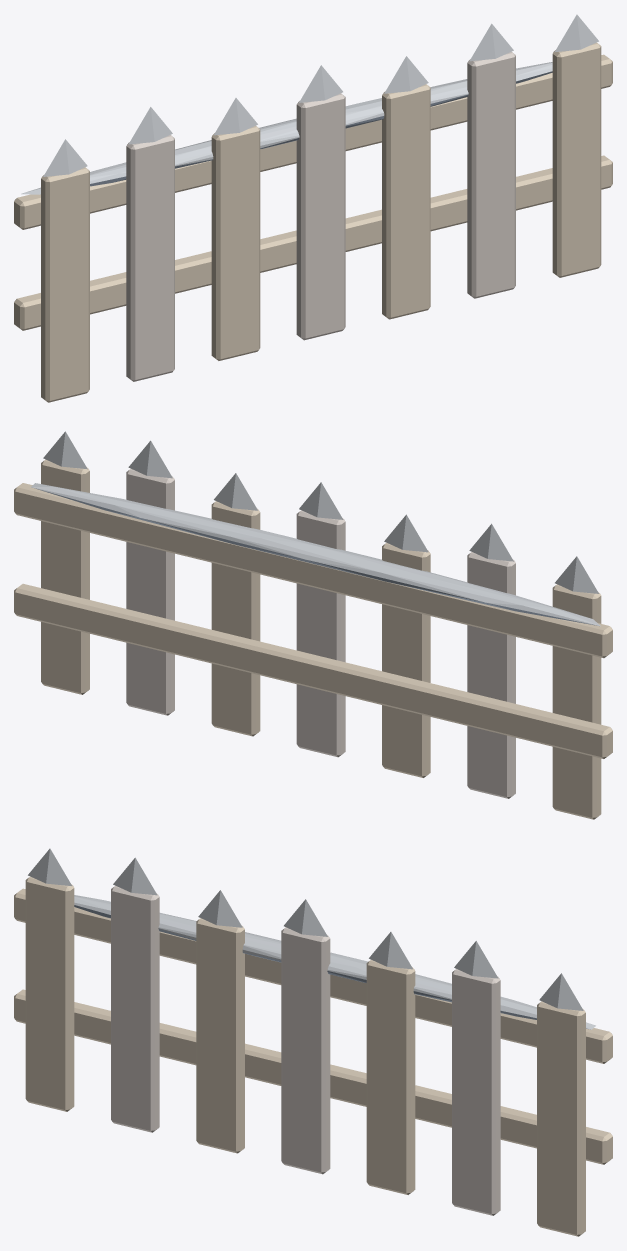
File: Fence_Picket.glb
3 renders of one model, top to bottom at view 1: azimuth 30°, elevation 25°; view 2: azimuth 150°, elevation 25°; view 3: azimuth 330°, elevation 25°, orthographic.
Parts seen in each view (by area): view 1: Fence_Picket; view 2: Fence_Picket; view 3: Fence_Picket.
Part boxes in pixels (x1=…): Fence_Picket: x1=14, y1=14, x2=612, y2=402; Fence_Picket: x1=14, y1=431, x2=612, y2=819; Fence_Picket: x1=14, y1=848, x2=612, y2=1236.
Size of the model in its own units: 8 by 3.47 by 0.4648.
